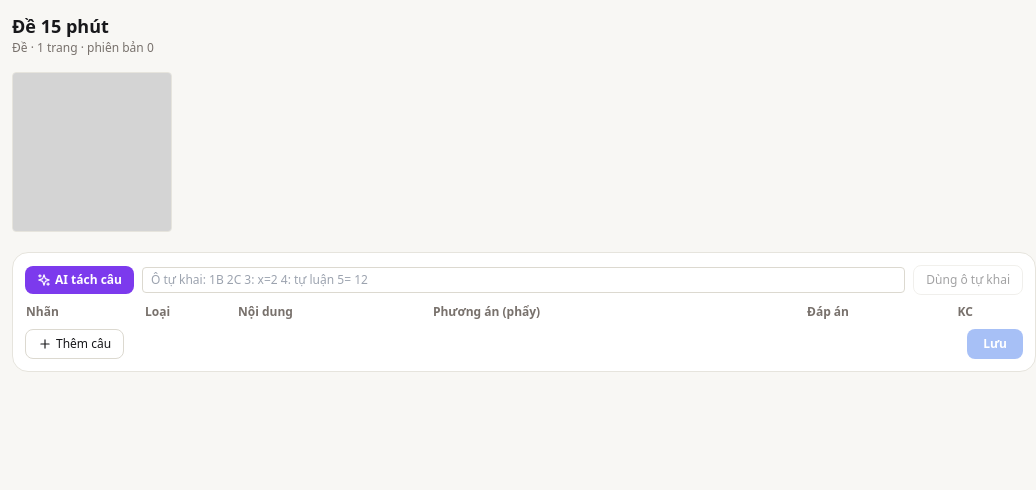
it: ResourceEditor › says AI is unavailable when extraction is offline and offers the quick key
Click the button with test id "extract": x=80, y=280 x1=25 y1=266 x2=134 y2=294
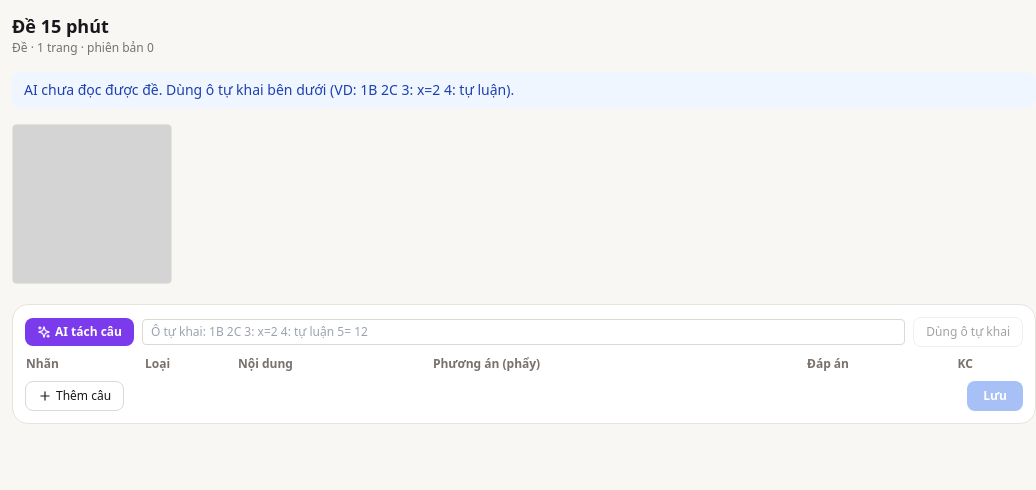
Result: the text "AI chưa đọc được đề" is shown at x1=24 y1=80 x2=514 y2=99
In the field with test id "quick-key": x=524, y=332 x1=142 y1=319 x2=905 y2=345, type "1: x=2"
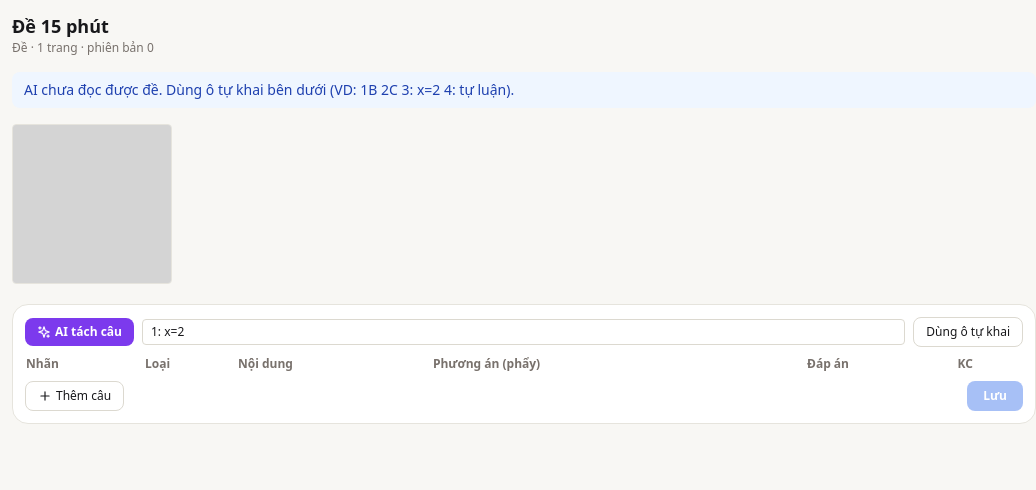
Click the button with test id "quick-key-apply": x=968, y=332 x1=913 y1=317 x2=1023 y2=347
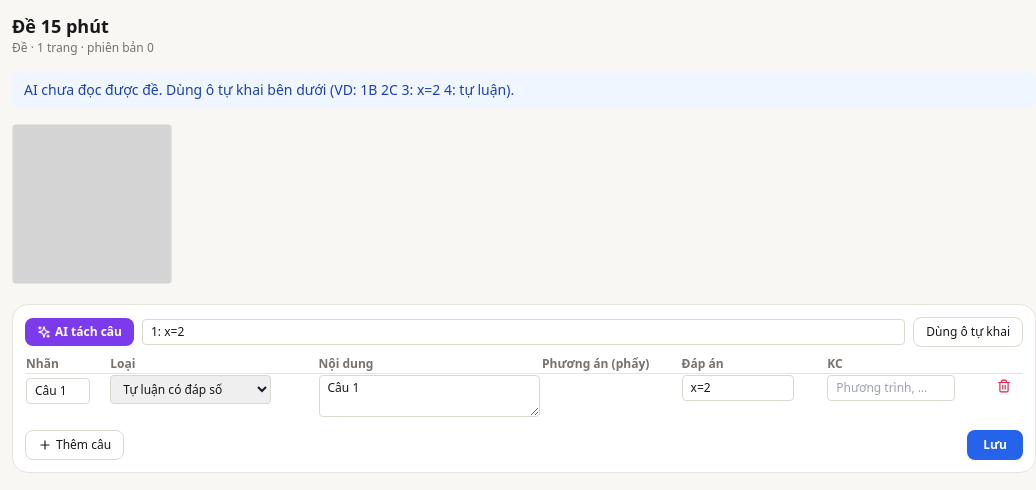
Result: the 3rd field showing "x=2" is shown at x1=682 y1=375 x2=794 y2=401
